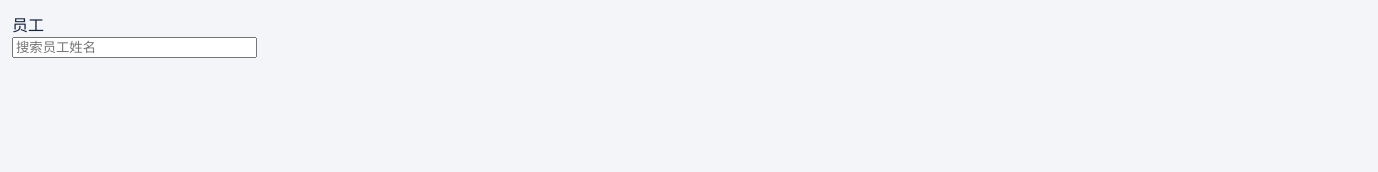
Test: AI 洞察工作台渲染 › 员工筛选组合框展示加载失败和无结果状态
Focus the dropdown labelled "员工" at {"x": 134, "y": 48}, box [12,37,257,58]
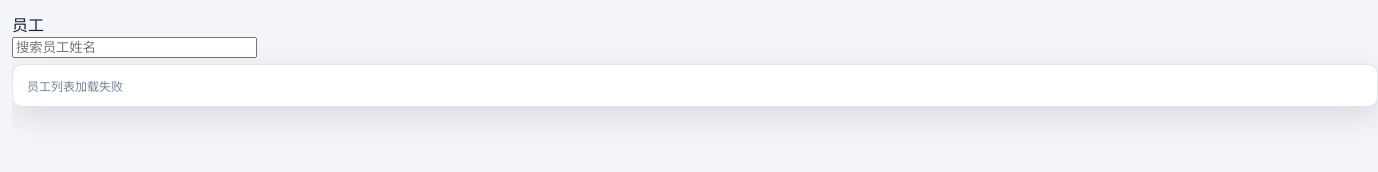
Result: the message reads "员工列表加载失败" at [27,79,123,94]
Type "李" into the dropdown labelled "员工" at {"x": 134, "y": 48}, box [12,37,257,58]
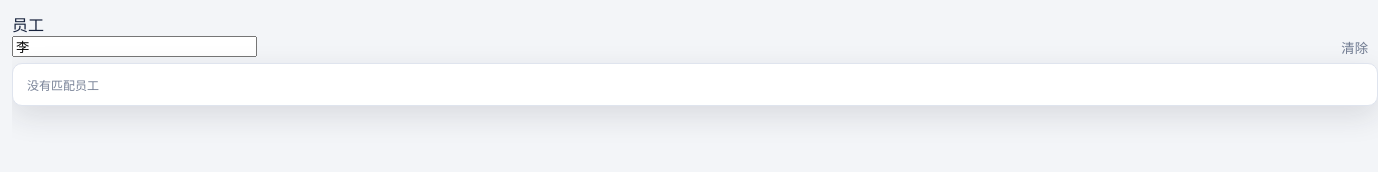
Result: the message reads "没有匹配员工" at [27,78,99,93]
